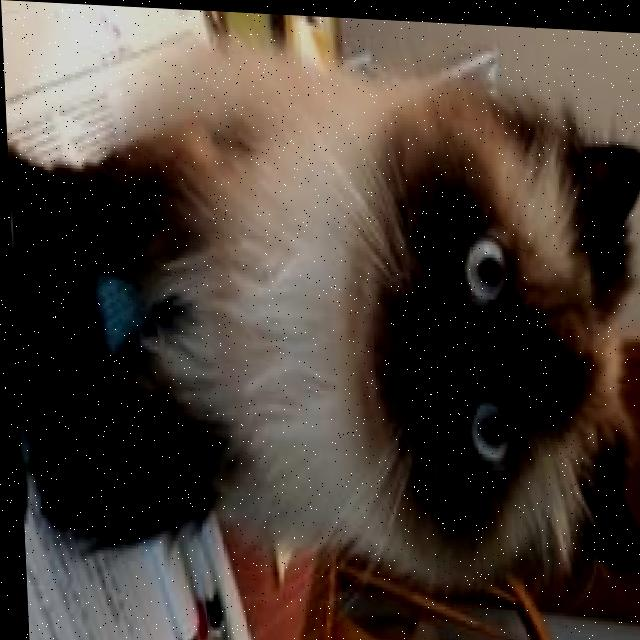Birman: (1, 29, 640, 605)
